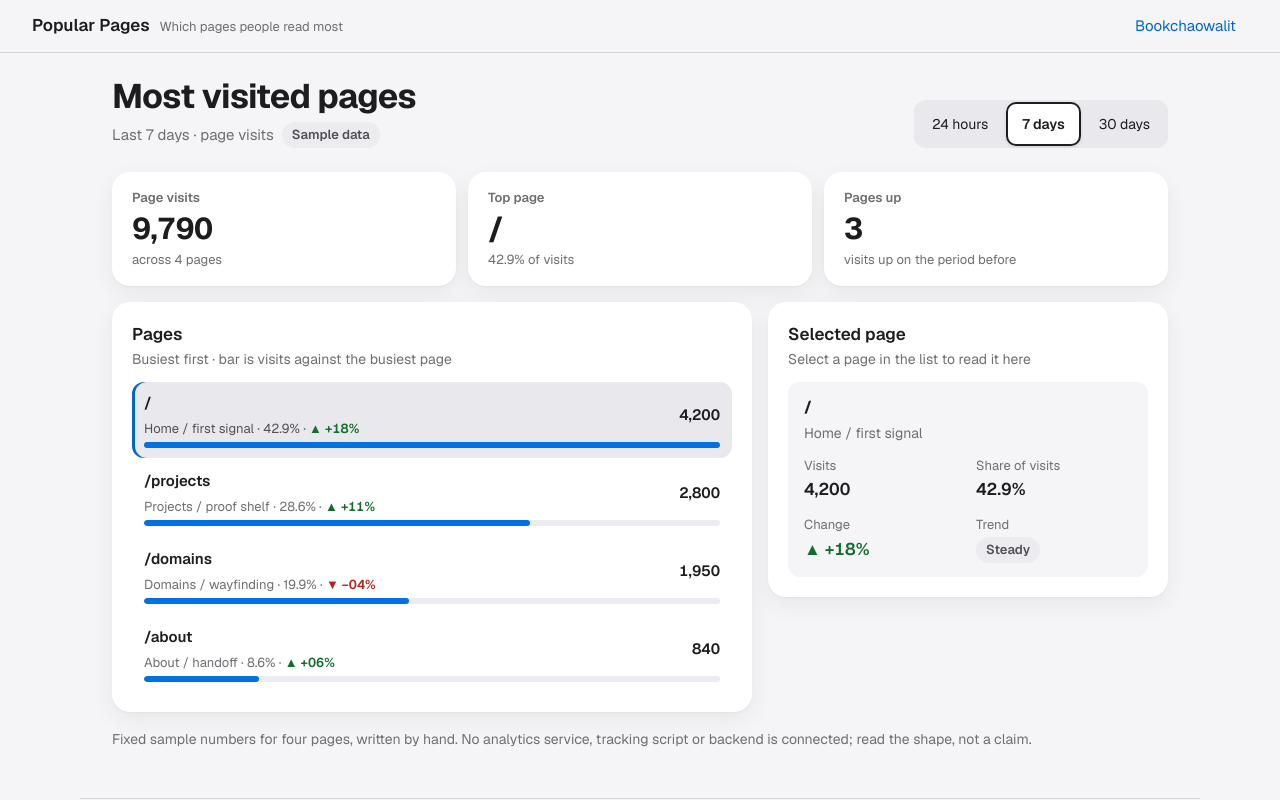
popular pages › switches the period, recomputes every figure and keeps a selected page
Click the button "/projects Projects / proof shelf · 28.6% · ▲ +11% 2,800" at (432, 498), box top-left (132, 460), bottom-right (732, 536)
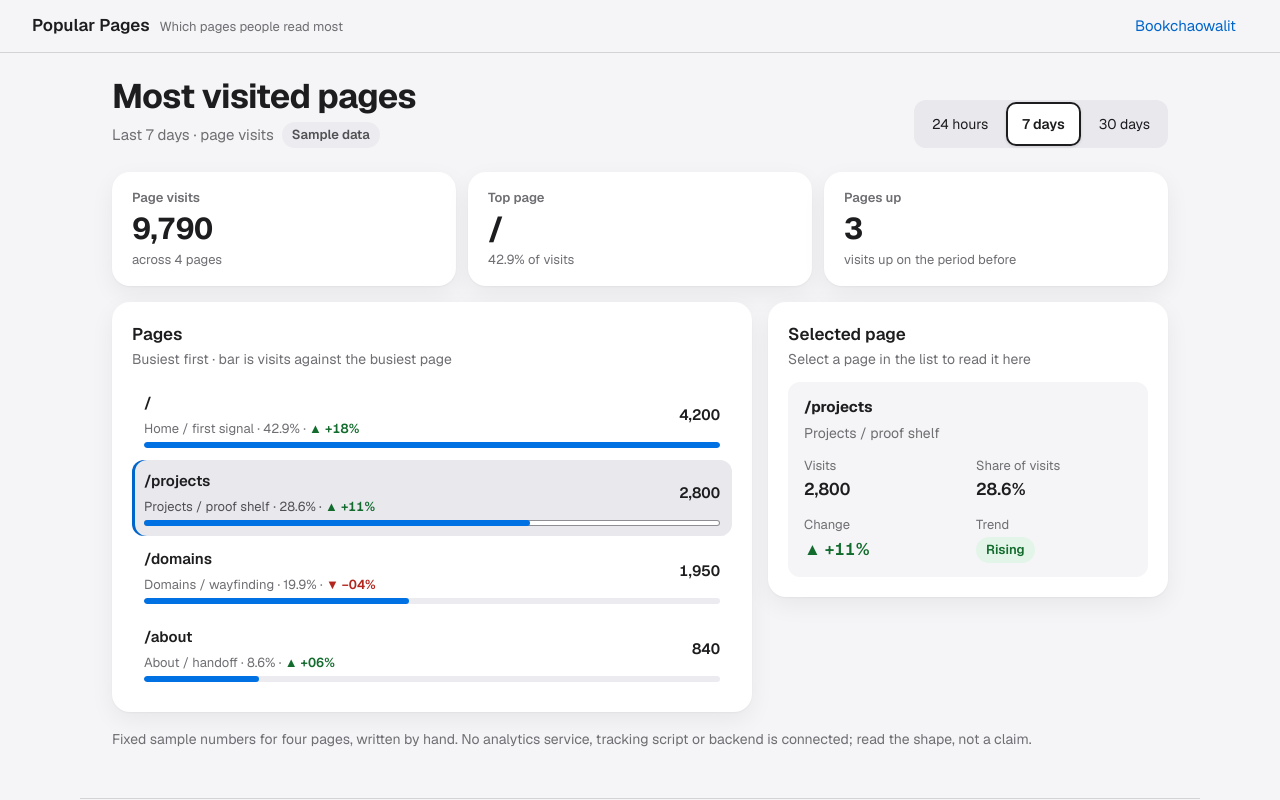
Expected: the button "/projects Projects / proof shelf · 28.6% · ▲ +11% 2,800" is pressed, top-left (132, 460), bottom-right (732, 536)
Click the button "30 days" at (1124, 124), box top-left (1083, 102), bottom-right (1166, 146)
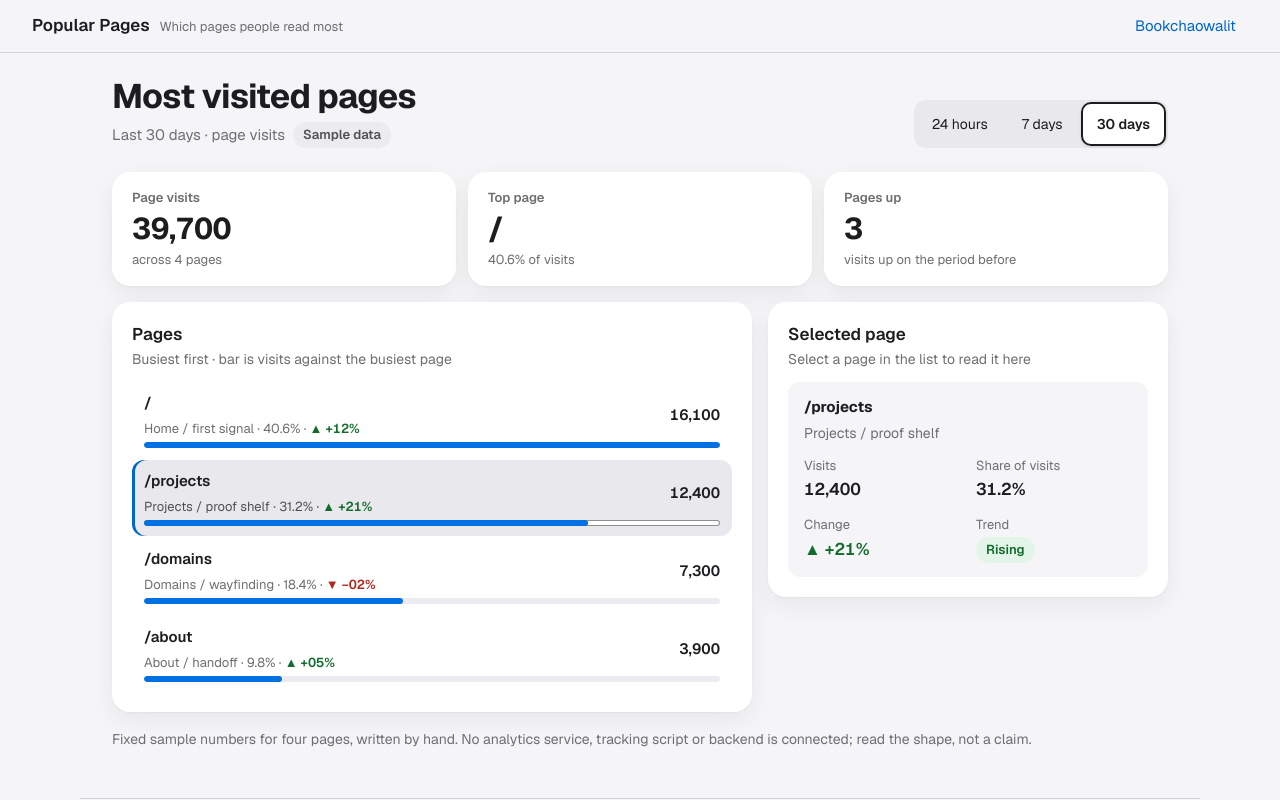
Expected: the element showing "Last 30 days · page visits Sample data" is shown, top-left (112, 122), bottom-right (416, 148)
Expected: the list item with class "ds-stat" reads "Page visits 39,700 across 4 pages", top-left (112, 172), bottom-right (456, 286)
Expected: the element that starts with "Visits" shows "12,400", top-left (804, 478), bottom-right (861, 500)
Click the button "/domains Domains / wayfinding · 18.4% · ▼ −02% 7,300" at (432, 576), box top-left (132, 538), bottom-right (732, 614)
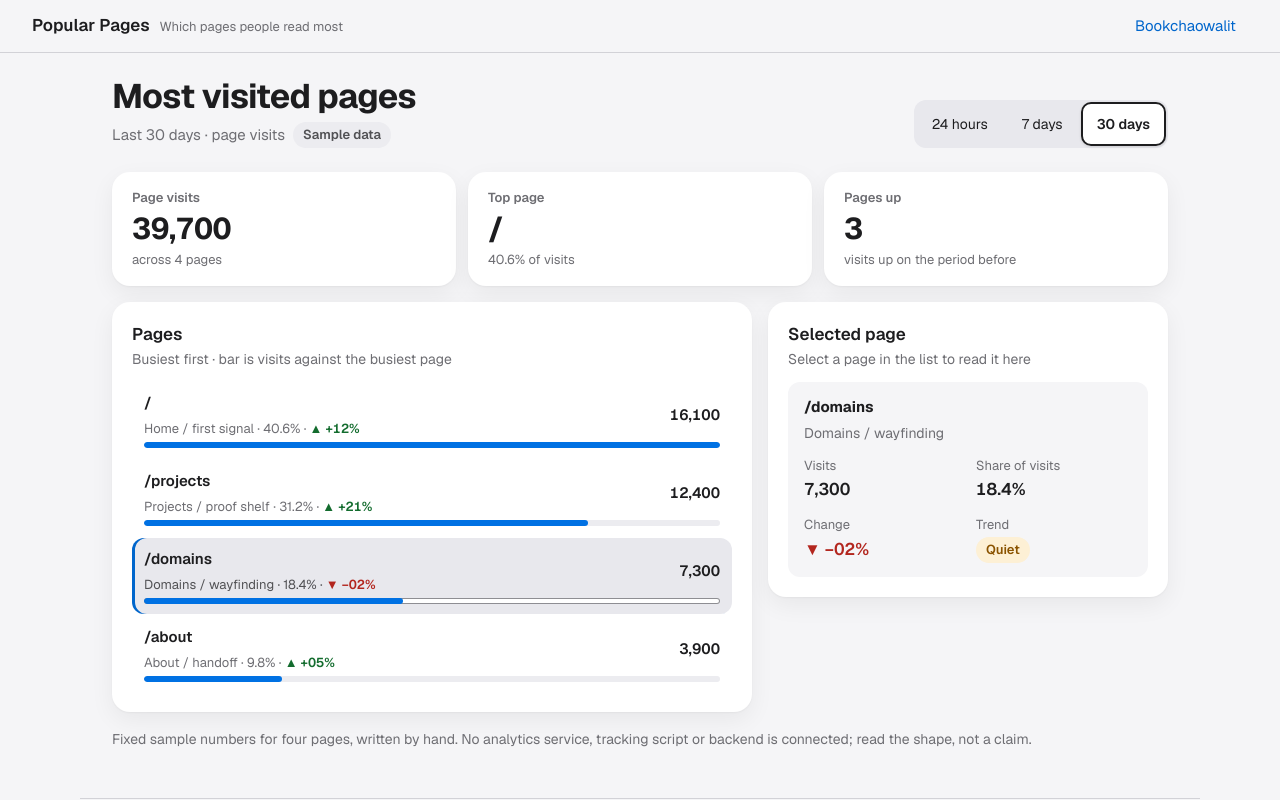
Click the button "24 hours" at (960, 124), box top-left (916, 102), bottom-right (1004, 146)
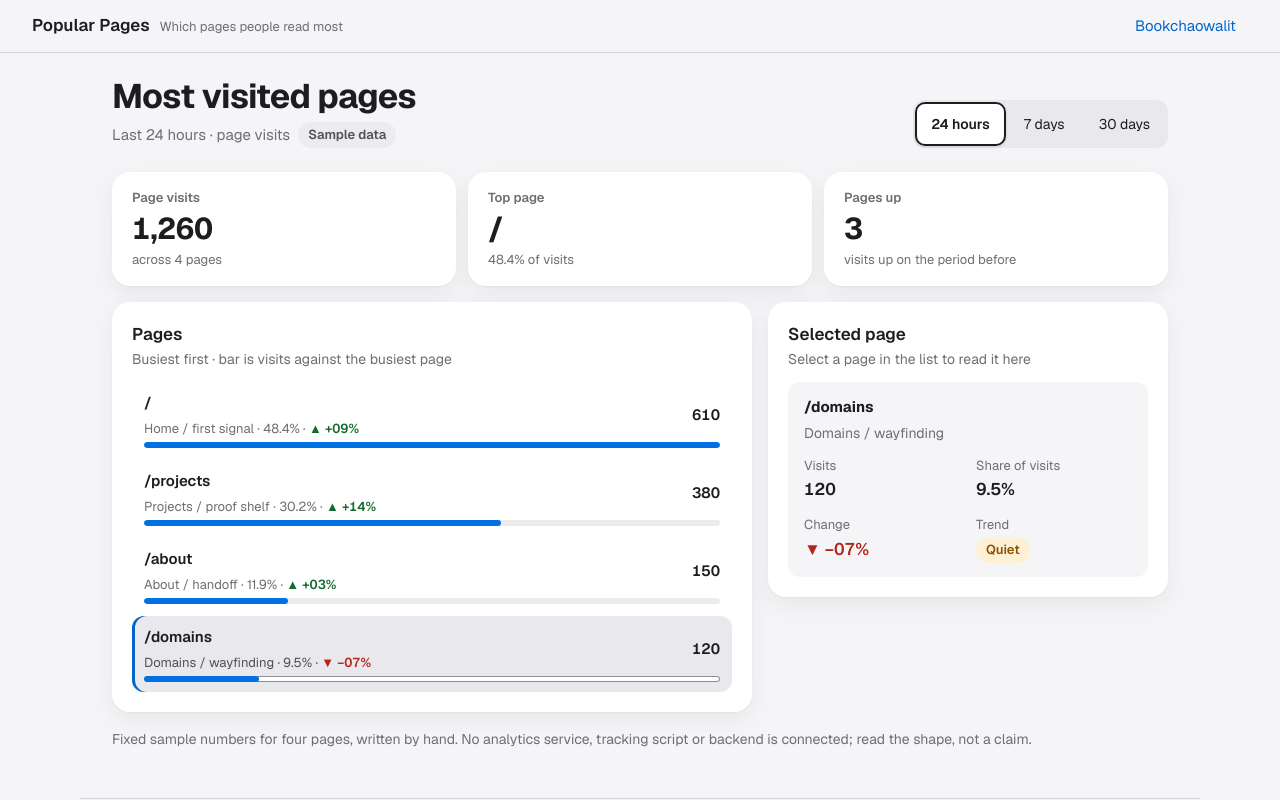
Expected: the list item with class "ds-stat" reads "Top page / 48.4% of visits", top-left (468, 172), bottom-right (812, 286)
